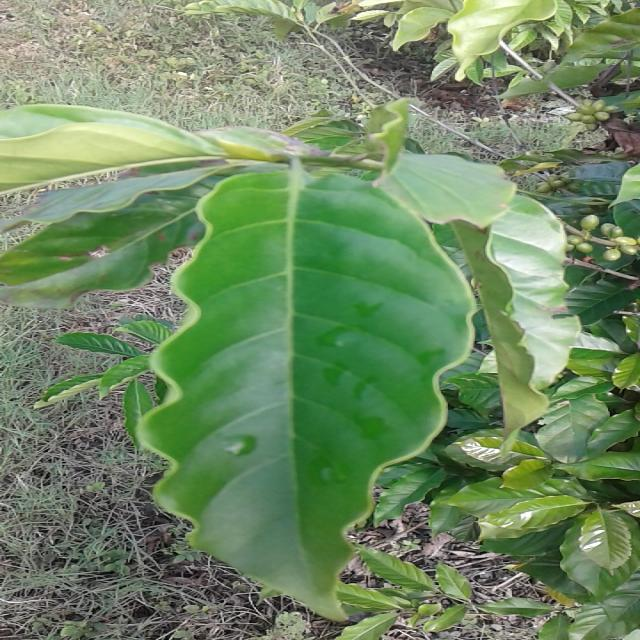Sanas: (124, 160, 483, 626)
